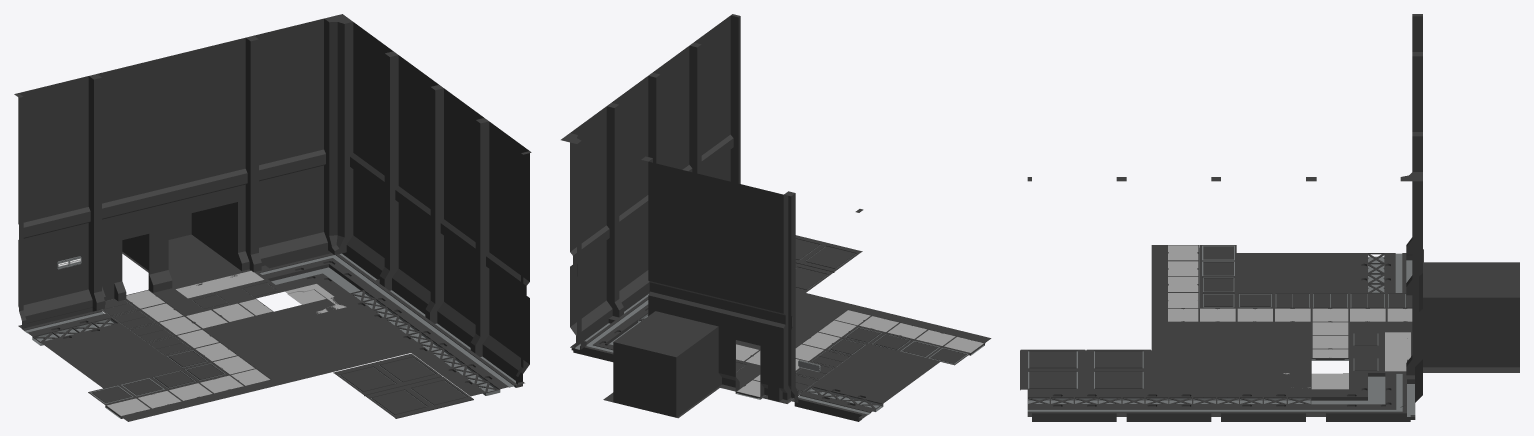
Rendered from New Menu Objects.fbx.
3 views of the same model, side by side, from view 1: azimuth 30°, elevation 25°; view 2: azimuth 150°, elevation 25°; view 3: azimuth 270°, elevation 25° (orthographic). The views are drawn at different scales.
Visible parts, largest first — view 1: Wall_2, Wall_3, Wall_1, Wall_6, Wall_5, Wall_4, pPlane49, pPlane48, Floor_Piece_Design_3, Floor_Piece_Design_4, polySurface83, Floor_Piece_Design_7 (+12 smaller); view 2: Wall_2, Wall_3, Wall_4, Wall_6, Wall_5, pPlane48, polySurface83, Floor_Piece_Design_6, Floor_Piece_Design_10, Floor_Piece_Design_4, polySurface89, pPlane49 (+6 smaller); view 3: Wall_2, pPlane49, pPlane48, Floor_Piece_Design_4, polySurface83, Floor_Piece_Design_9, Floor_Piece_Design_8, Floor_Piece_Design_7, Wall_3, Floor_Piece_Design_10, Floor_Piece_Design_5, Floor_Piece_Design_6 (+19 smaller).
Part boxes in pixels (box(x1,y1,x2,y2)): Wall_2: box(93, 37, 257, 309); Wall_3: box(249, 14, 395, 284); Wall_1: box(14, 75, 100, 328); Wall_6: box(472, 119, 531, 384); Wall_5: box(427, 86, 486, 351); Wall_4: box(382, 53, 440, 318); pPlane49: box(220, 297, 410, 380); pPlane48: box(50, 330, 181, 388); Floor_Piece_Design_3: box(122, 234, 284, 311); Floor_Piece_Design_4: box(257, 250, 381, 296); polySurface83: box(150, 338, 295, 406); Floor_Piece_Design_7: box(426, 351, 524, 396); Wall_2: box(613, 157, 794, 417); Wall_3: box(561, 104, 649, 349); Wall_4: box(609, 74, 657, 315); Wall_6: box(691, 14, 740, 183); Wall_5: box(650, 44, 699, 173); pPlane48: box(820, 344, 940, 397); polySurface83: box(795, 301, 934, 356); Floor_Piece_Design_6: box(792, 380, 890, 421); Floor_Piece_Design_10: box(795, 235, 862, 272); Floor_Piece_Design_4: box(570, 316, 638, 361); polySurface89: box(899, 324, 991, 365); pPlane49: box(736, 290, 837, 349); Wall_2: box(1406, 54, 1519, 367); pPlane49: box(1151, 330, 1311, 389); pPlane48: box(1235, 253, 1348, 292); Floor_Piece_Design_4: box(1311, 373, 1415, 421); polySurface83: box(1151, 276, 1273, 330); Floor_Piece_Design_9: box(1216, 389, 1311, 421); Floor_Piece_Design_8: box(1122, 389, 1216, 421); Floor_Piece_Design_7: box(1027, 389, 1121, 421); Wall_3: box(1311, 134, 1422, 407); Floor_Piece_Design_10: box(1020, 349, 1085, 390); Floor_Piece_Design_5: box(1086, 349, 1151, 389); Floor_Piece_Design_6: box(1349, 253, 1412, 292).
Bounding box in the file's own units: 2196 × 1423 × 2641.
